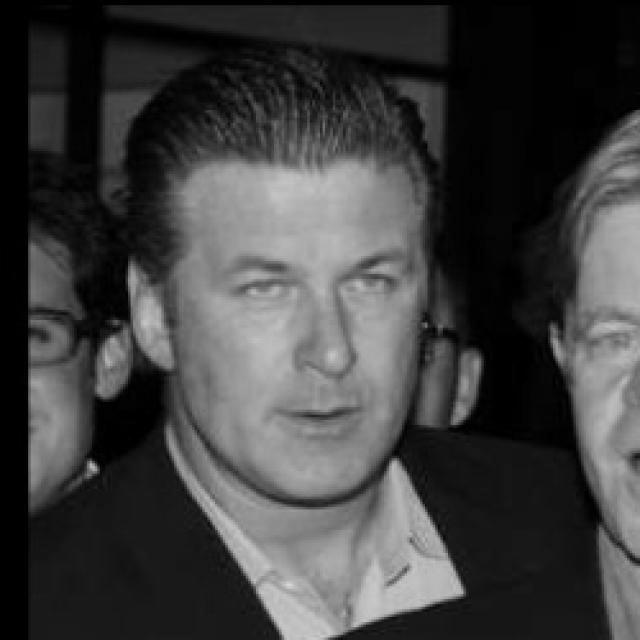real: (166, 88, 432, 496), (237, 256, 396, 308)
